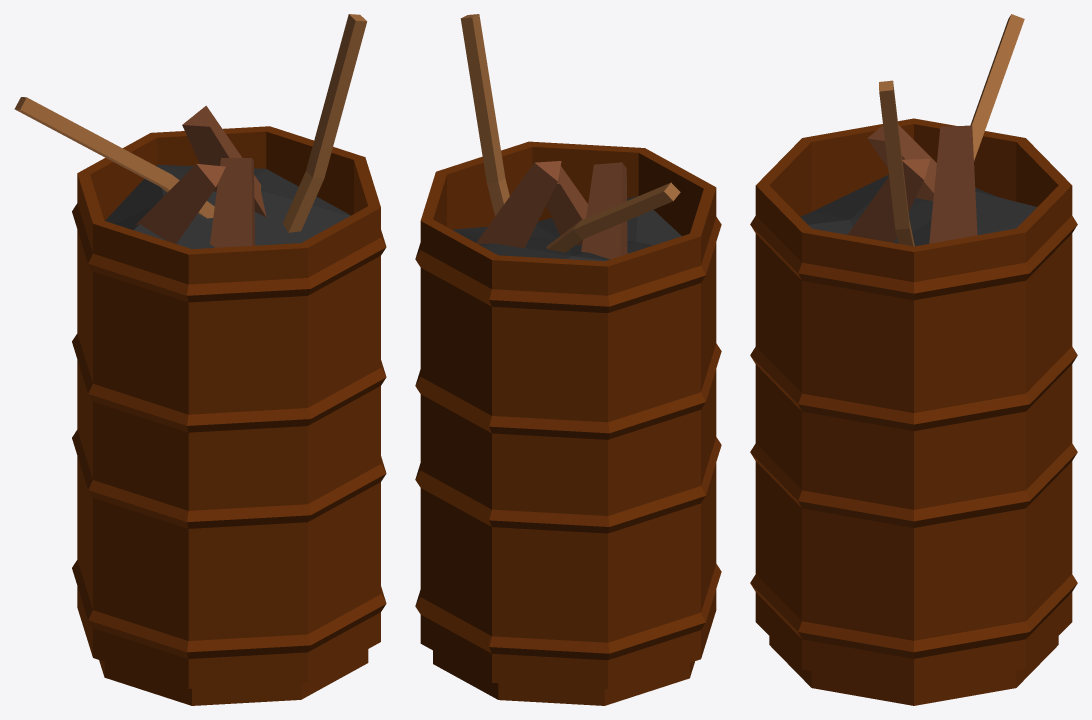
Rendered from LP_PostApoc_FireBarrel.fbx.
3 renders of one model, left to right at view 1: azimuth 30°, elevation 25°; view 2: azimuth 150°, elevation 25°; view 3: azimuth 270°, elevation 25°, orthographic. The views are drawn at different scales.
Visible parts, largest first — view 1: FireBarrel; view 2: FireBarrel; view 3: FireBarrel.
Part boxes in pixels (bbox=[...]): FireBarrel: bbox=[14, 14, 386, 705]; FireBarrel: bbox=[415, 14, 721, 705]; FireBarrel: bbox=[750, 14, 1077, 705].
Bounding box in the file's own units: 73.07 × 141 × 68.
